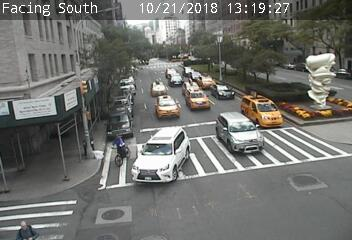car: (129, 127, 188, 182), (216, 110, 266, 156), (242, 95, 284, 129), (155, 95, 182, 118), (185, 89, 210, 108), (212, 83, 234, 97), (196, 75, 213, 87), (152, 81, 165, 94), (169, 75, 184, 86)
